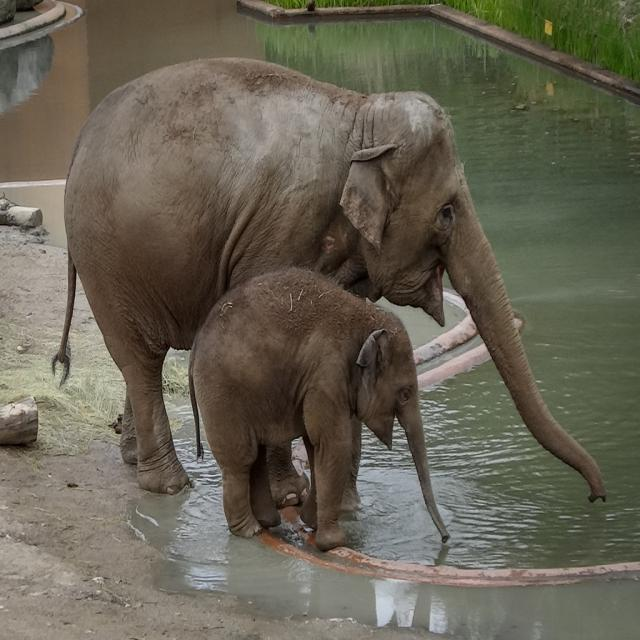Elephant: (52, 57, 608, 504), (188, 265, 451, 551)
